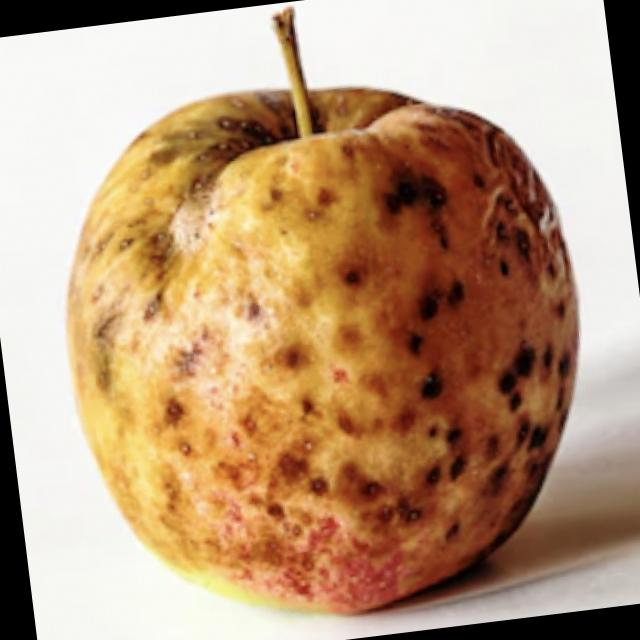rotten_apple: (29, 0, 615, 640)
